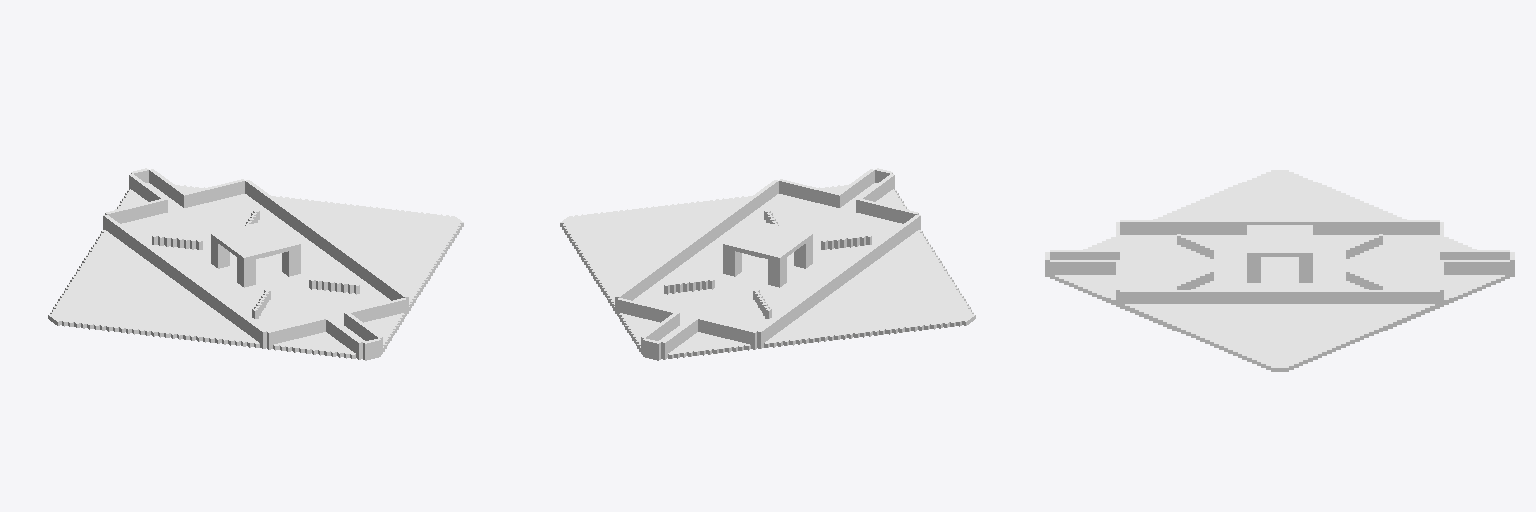
File: arena.obj
3 views of the same model, side by side, from view 1: azimuth 30°, elevation 25°; view 2: azimuth 150°, elevation 25°; view 3: azimuth 270°, elevation 25° (orthographic).
Visible parts, largest first — view 1: object 1; view 2: object 1; view 3: object 1.
Boxes of the visible parts, x1,y1,x2,y2 form: object 1: [48, 168, 463, 360]; object 1: [560, 168, 975, 360]; object 1: [1045, 170, 1514, 371].
Bounding box in the file's own units: 10 × 0.8 × 10.